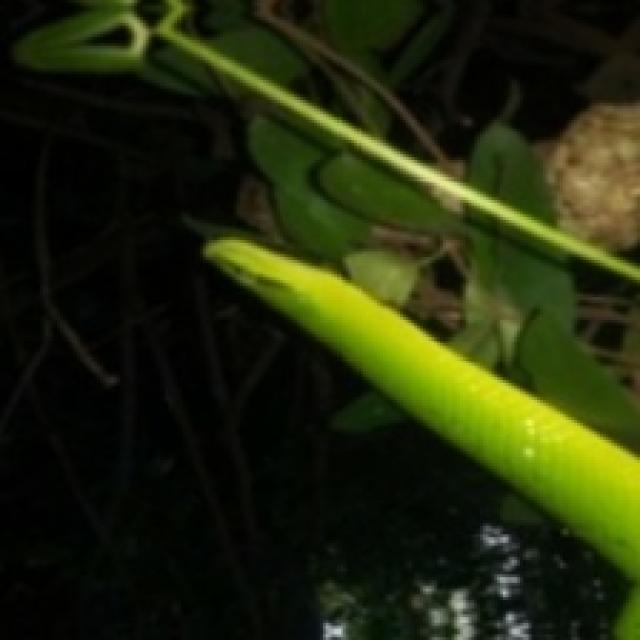red-tailed green ratsnake: (203, 237, 637, 637)
